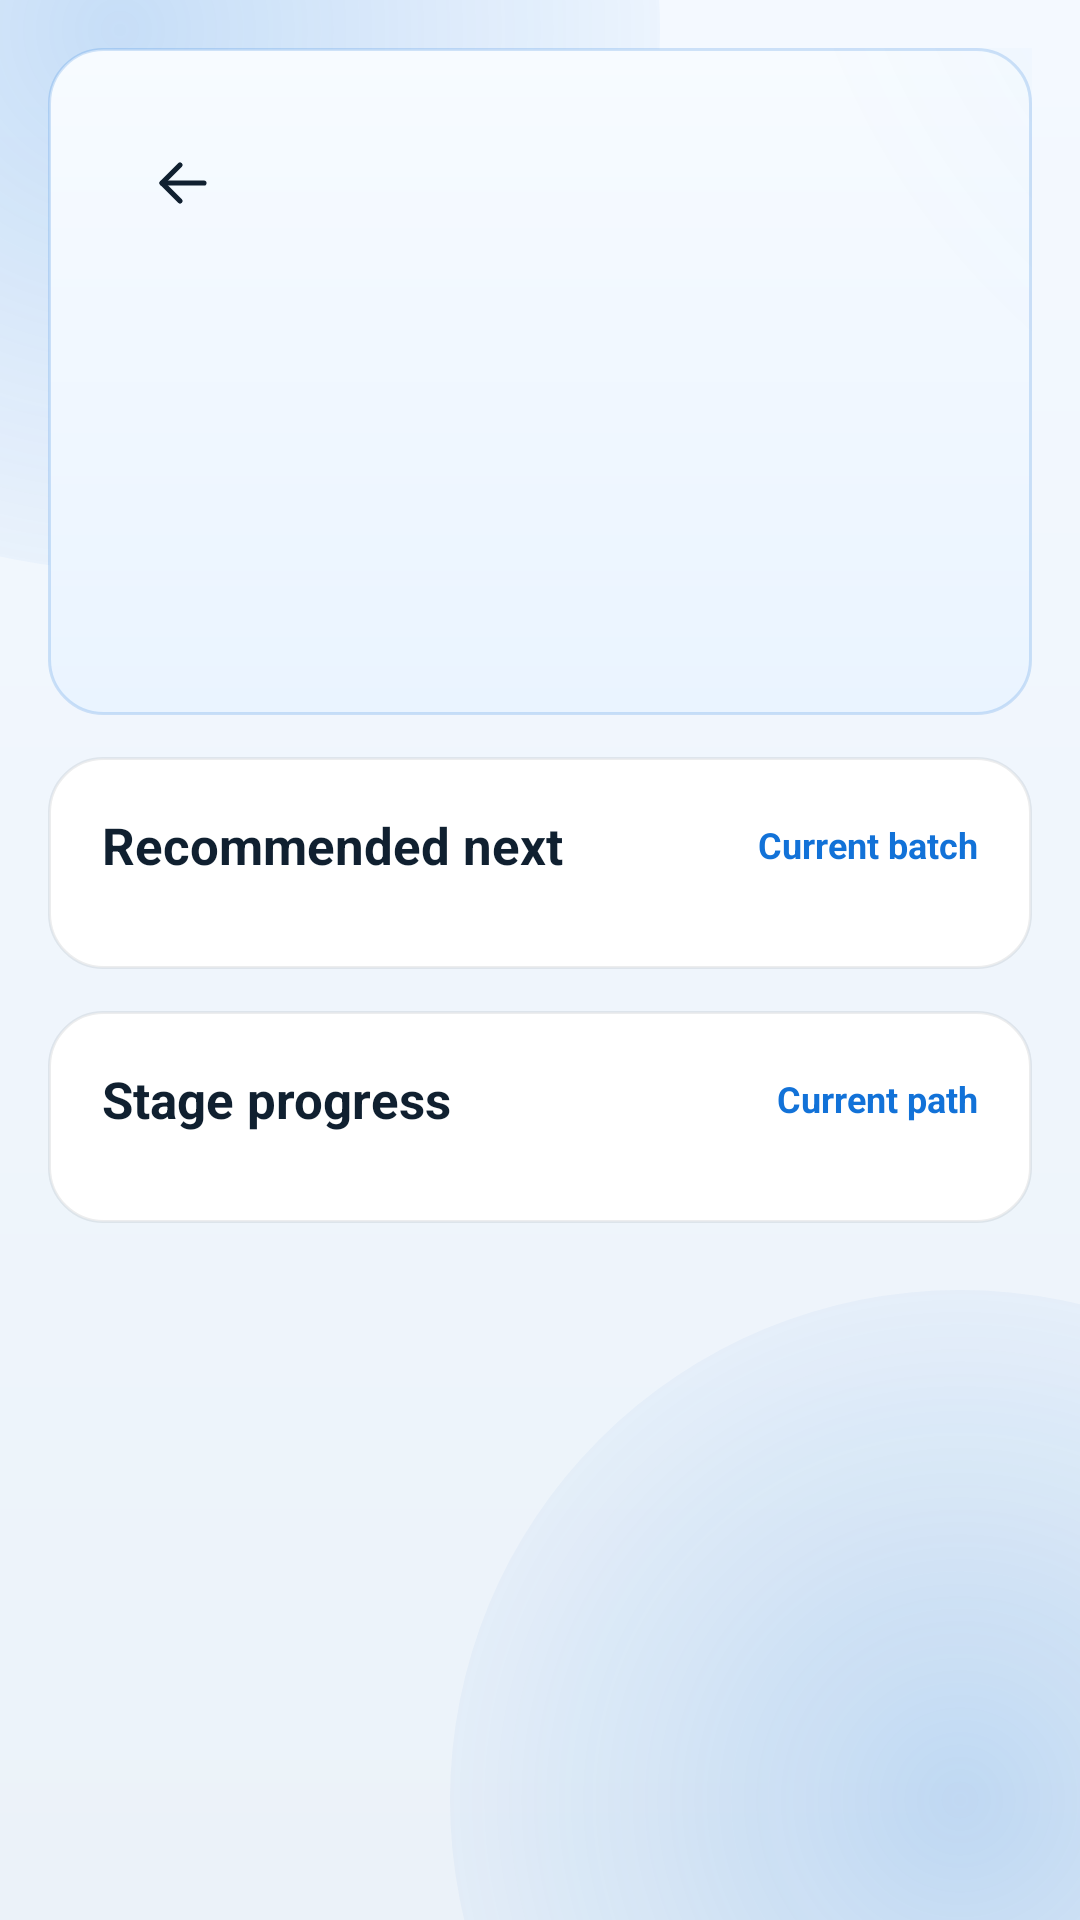

Where icons sit on this 1080×1920 app screen, as (x1, y1, x2, y2):
Back: (159, 162, 207, 204)
